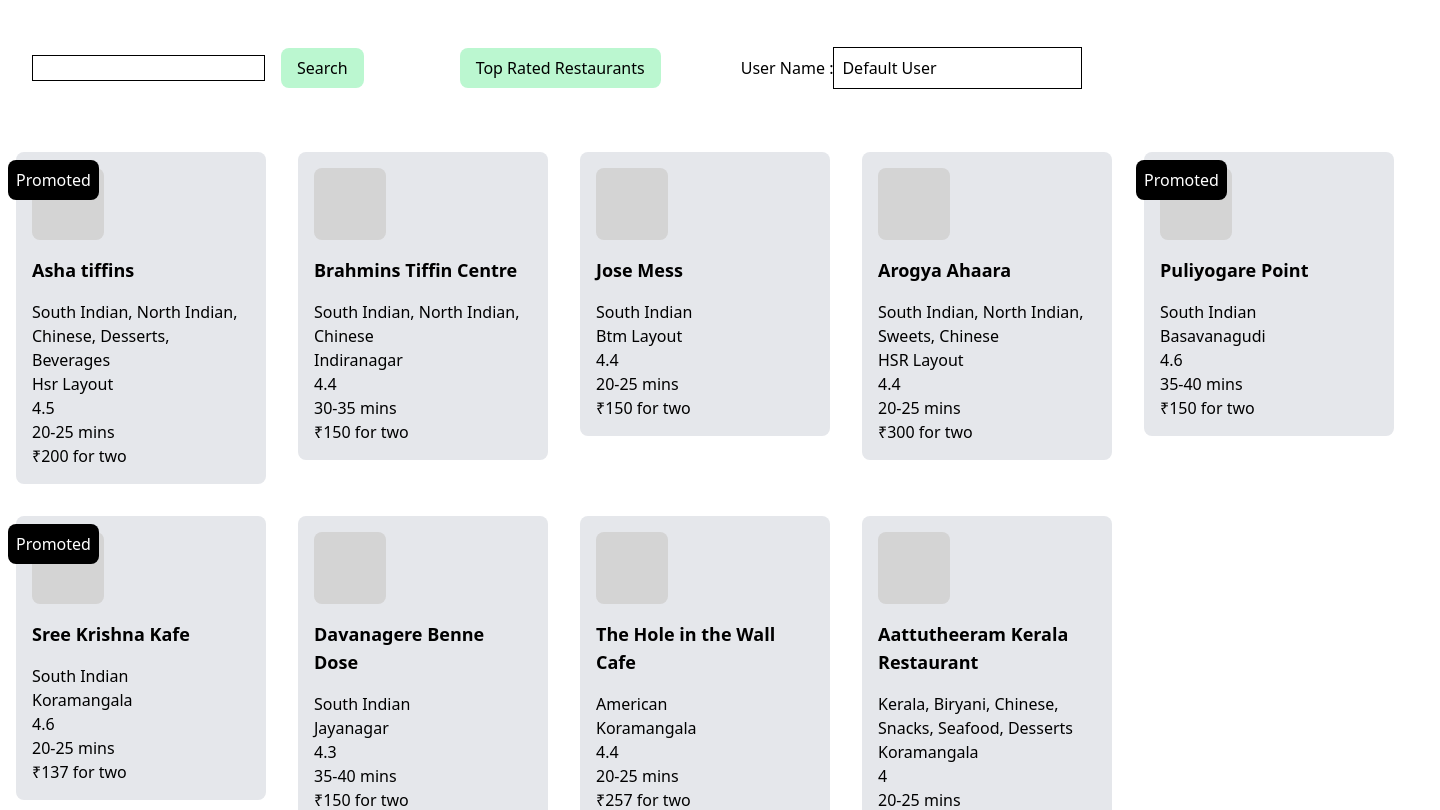
Test case: filer top rated restaurants
Click the button "Top Rated Restaurants". click: (560, 68)
box: [460,48,661,88]
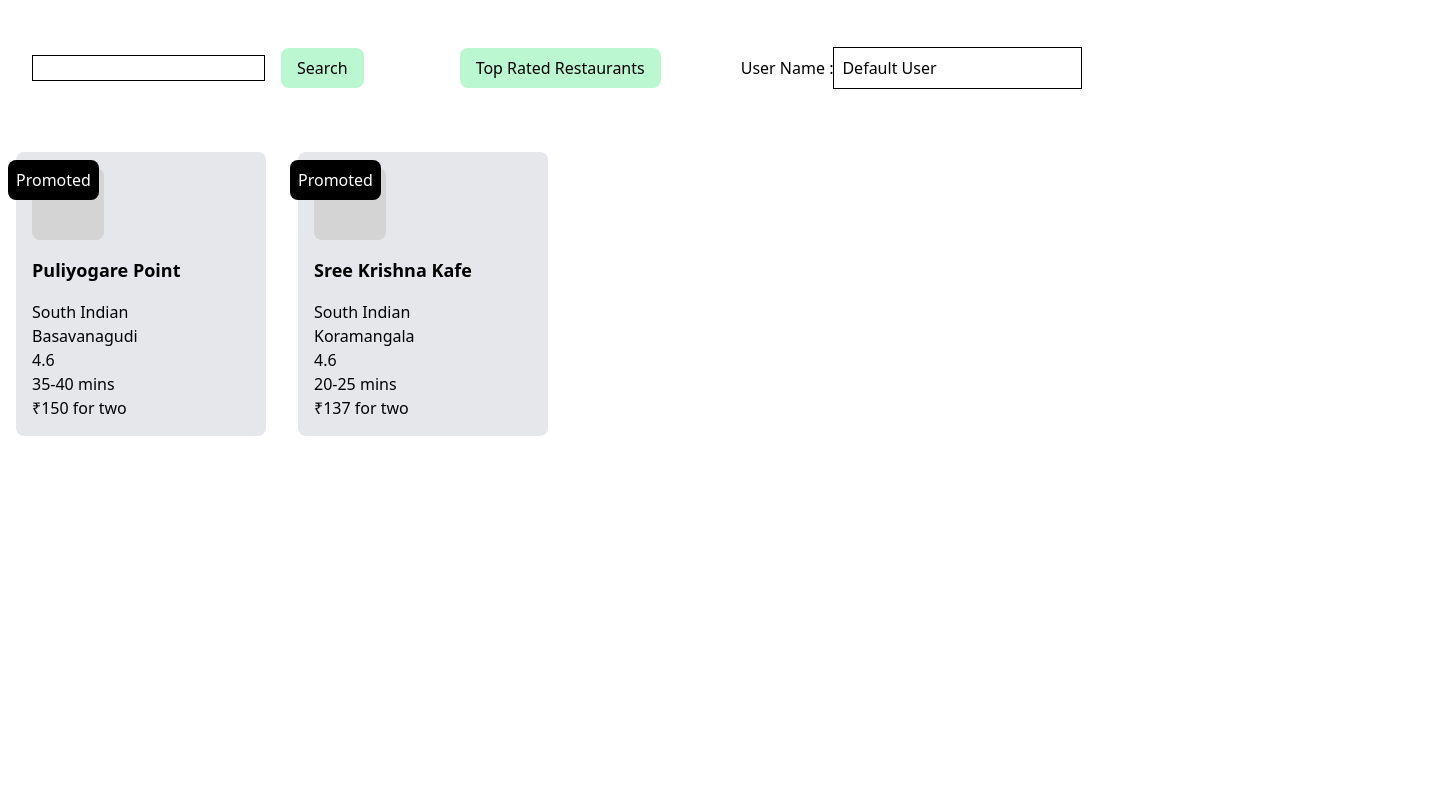
Expected: the number of elements with test id "resCard" is 2, [16,152,266,436]; [298,152,548,436]
